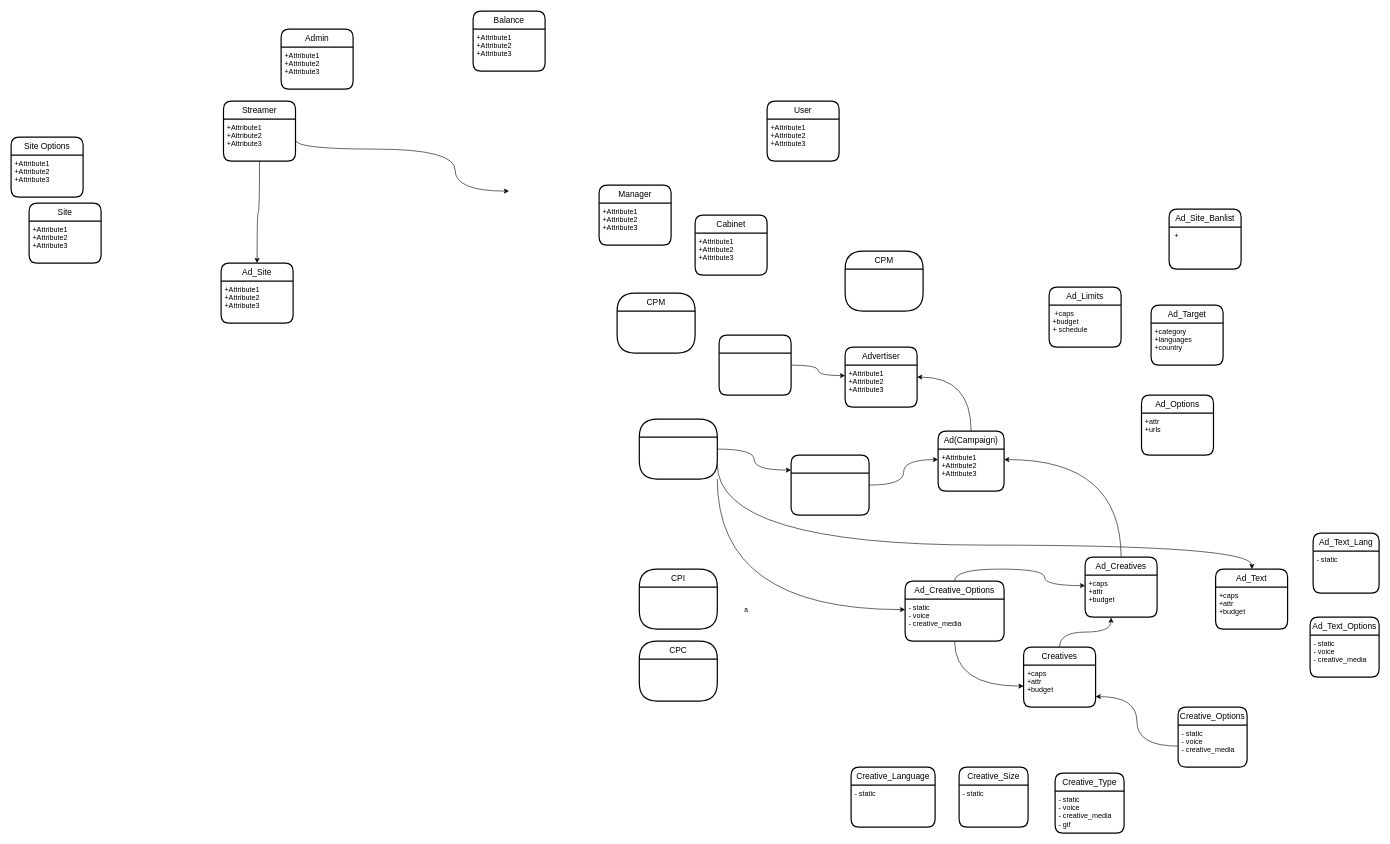
The diagram is 1390 pixels wide and 844 high, and some of its shapes have lost their labels. The shapes that lost their labels are listed below. From the top down, each one's centre as x and y in pixels, then its label:
(x=754, y=364): Advertiser_?
(x=678, y=448): CPA
(x=829, y=484): Ad_Type
